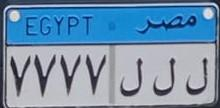7: (33, 51, 56, 98), (8, 52, 31, 98), (60, 51, 81, 95), (86, 51, 106, 97)
laam: (119, 55, 143, 99), (152, 56, 177, 98), (186, 54, 208, 97)
